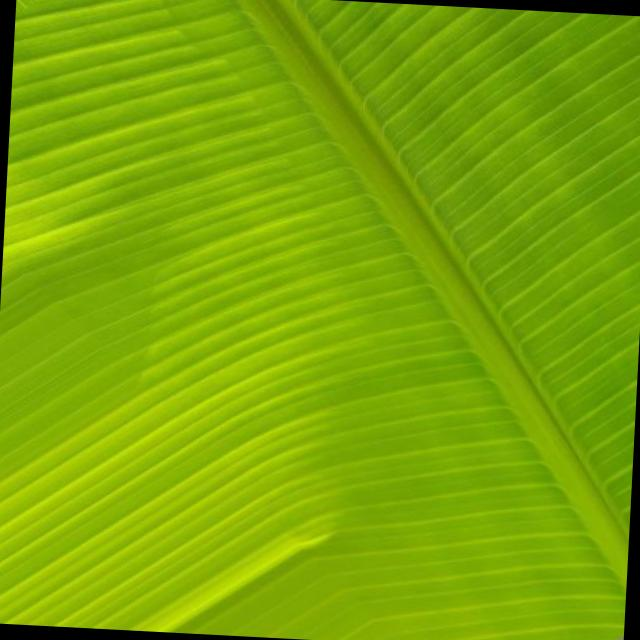Banana_Healthy: (62, 70, 507, 586)
